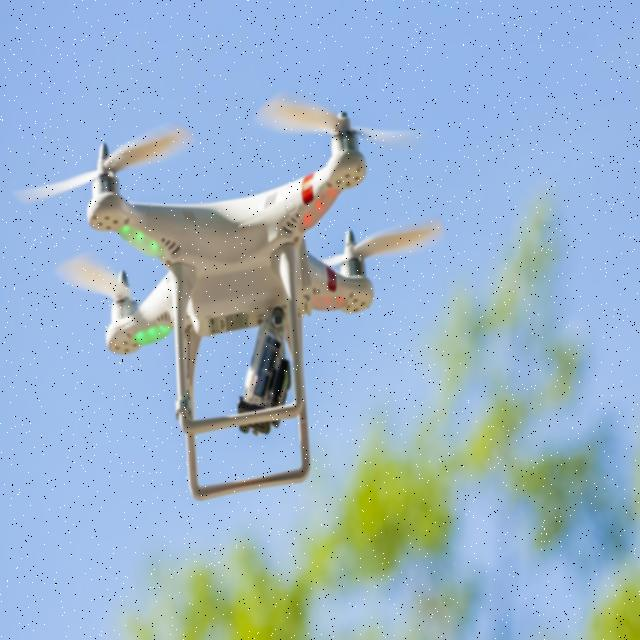UAV: (82, 106, 378, 502)
